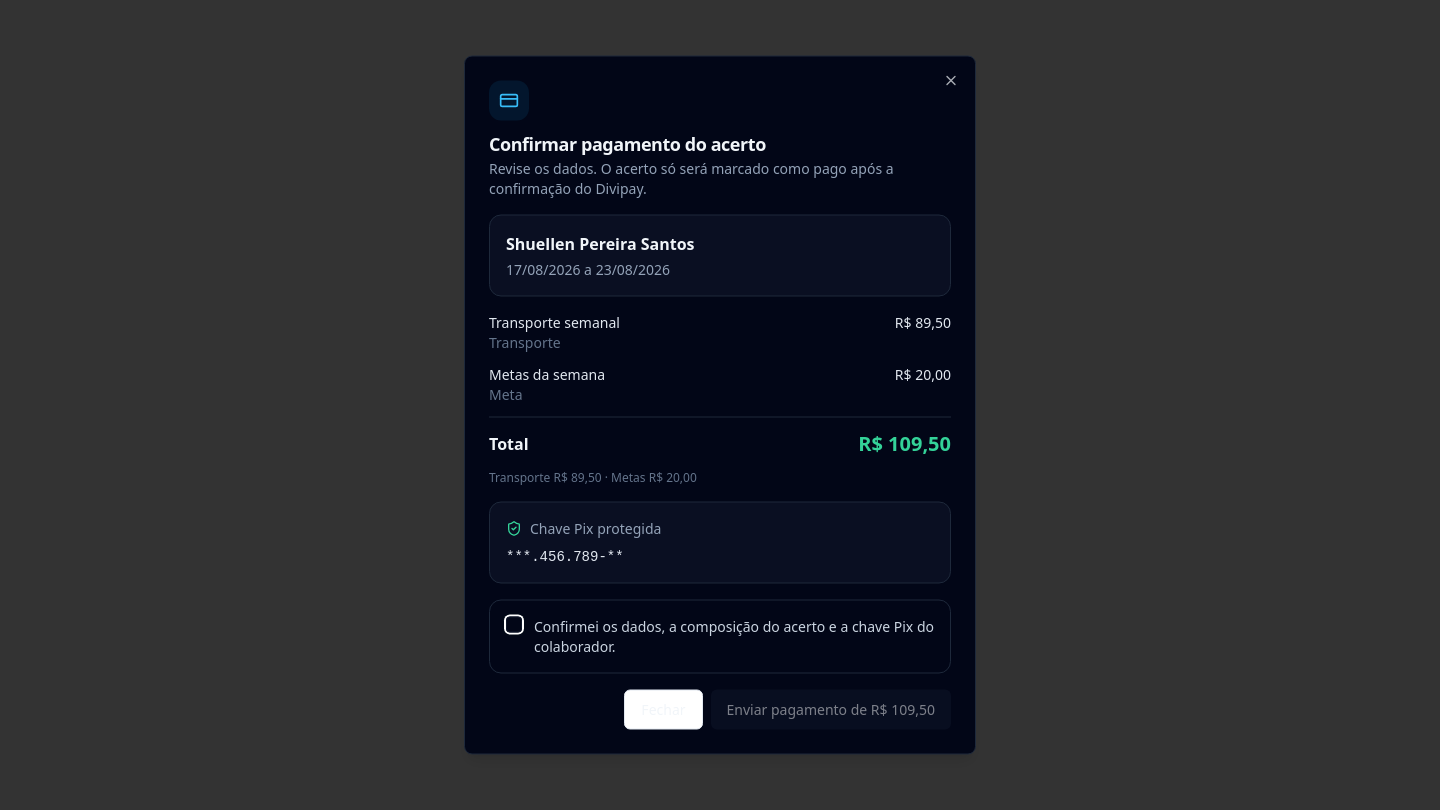
it: AcertoPaymentDialog › mostra composição, total e Pix mascarado e exige confirmação
Expected: the text "Shuellen Pereira Santos" is shown, x1=506 y1=232 x2=694 y2=254
Expected: the text "17/08/2026 a 23/08/2026" is shown, x1=506 y1=260 x2=670 y2=278
Click the checkbox named "confirmei os dados". click: (514, 624)
box: x1=506 y1=616 x2=522 y2=632
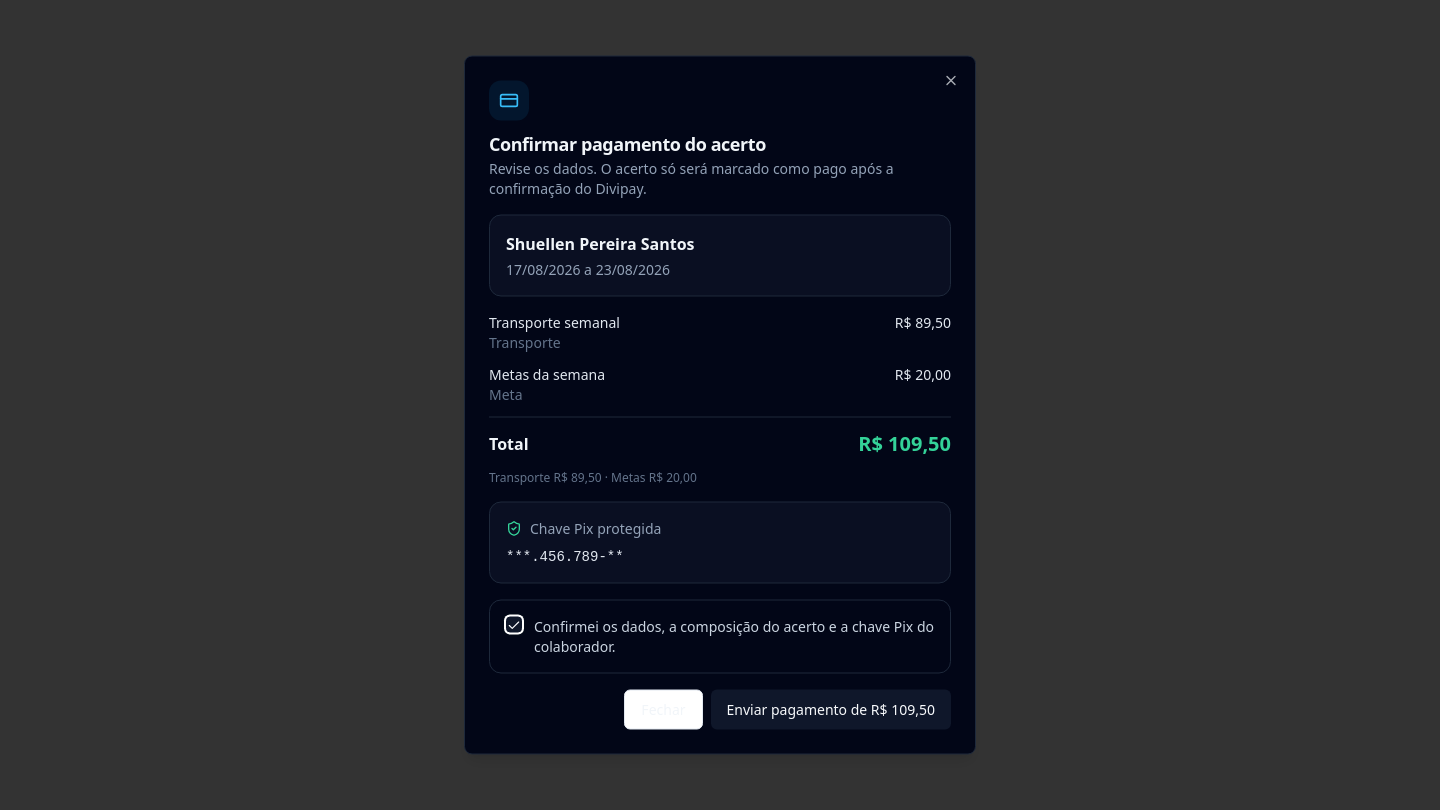
Result: the button "Enviar pagamento de R$ 109,50" is enabled
Click the button "Enviar pagamento de R$ 109,50". click: (831, 710)
box: x1=710 y1=690 x2=951 y2=730
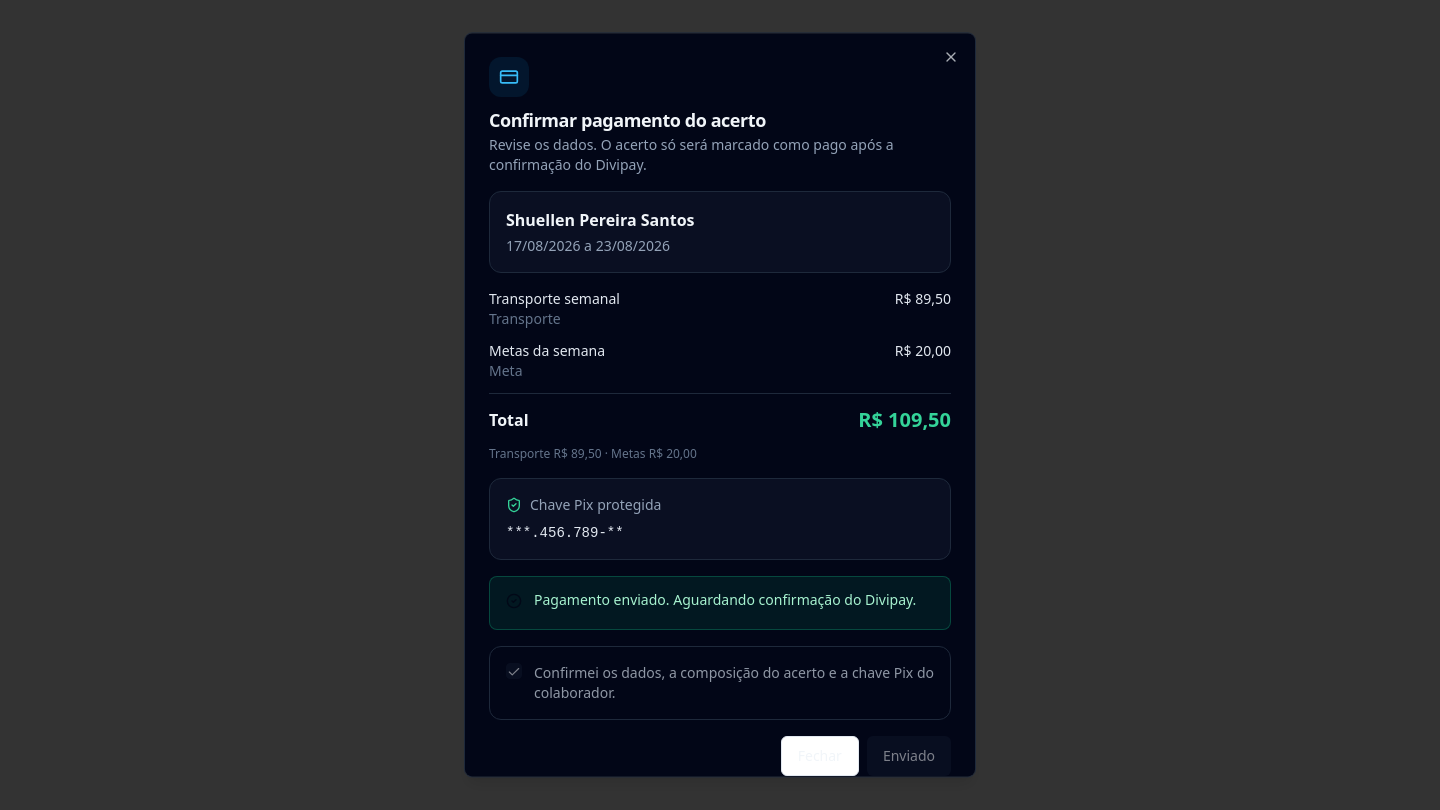
Result: the text "Pagamento enviado. Aguardando confirmação do Divipay." is shown at x1=506 y1=590 x2=934 y2=610
